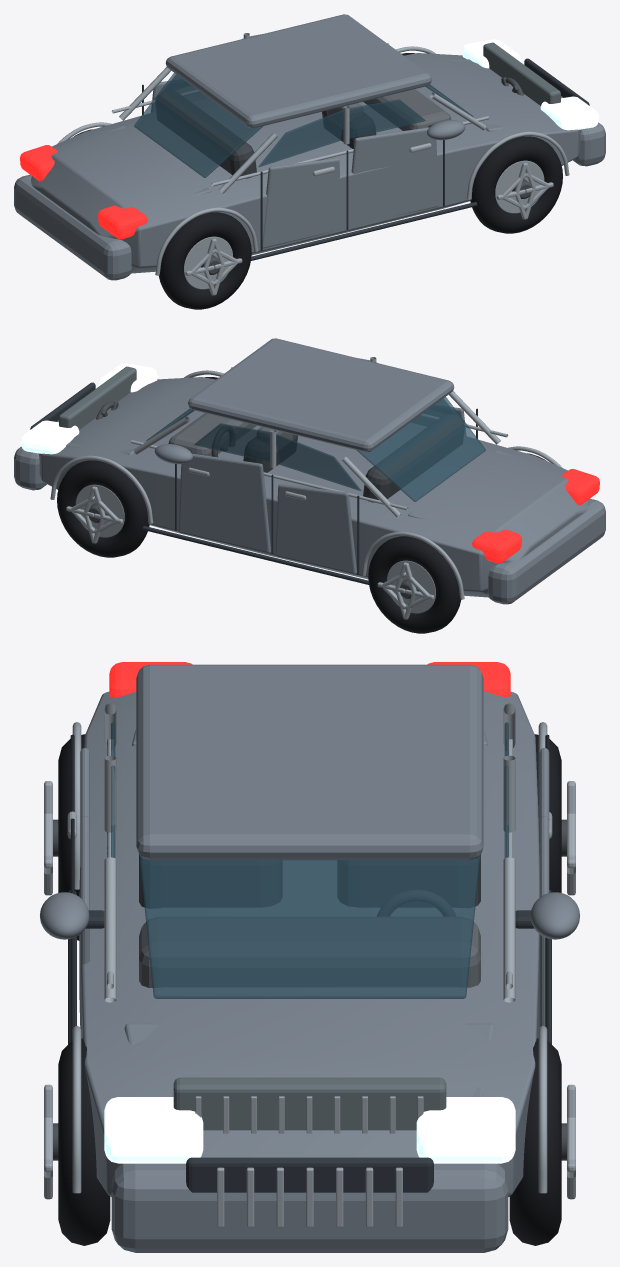
Rendered from sedan_v01.glb.
3 renders of one model, top to bottom at view 1: azimuth 30°, elevation 25°; view 2: azimuth 150°, elevation 25°; view 3: azimuth 270°, elevation 25°, orthographic. The views are drawn at different scales.
Visible parts, largest first — view 1: body.shell, body.roof_panel, glass.windshield.rear, body.door.rear.right, body.door.front.right, wheel.rear.right, wheel.front.right, body.bumper.rear, interior.seat.rear.back, interior.dashboard, glass.door.rear.right, cooling.radiator (+20 smaller); view 2: body.shell, body.roof_panel, body.door.front.left, glass.windshield.rear, body.door.rear.left, wheel.rear.left, wheel.front.left, body.bumper.rear, interior.seat.rear.back, glass.door.rear.left, cooling.radiator, glass.door.front.left (+19 smaller); view 3: body.shell, body.roof_panel, glass.windshield.front, body.bumper.front, interior.dashboard, cooling.radiator, detail.grille.front, interior.seat.front.right.back, wheel.front.left, wheel.front.right, interior.seat.front.left.back, light.headlamp.right (+18 smaller).
Part boxes in pixels (left/top/right/bottom): body.shell: left=31, top=53, right=581, bottom=273; body.roof_panel: left=165, top=14, right=431, bottom=128; glass.windshield.rear: left=134, top=73, right=263, bottom=177; body.door.rear.right: left=262, top=158, right=339, bottom=248; body.door.front.right: left=351, top=127, right=438, bottom=215; wheel.rear.right: left=159, top=212, right=251, bottom=309; wheel.front.right: left=470, top=136, right=562, bottom=233; body.bumper.rear: left=14, top=174, right=132, bottom=280; interior.seat.rear.back: left=155, top=90, right=256, bottom=178; interior.dashboard: left=363, top=89, right=451, bottom=130; glass.door.rear.right: left=258, top=110, right=343, bottom=167; cooling.radiator: left=483, top=42, right=560, bottom=105; body.shell: left=38, top=377, right=588, bottom=597; body.roof_panel: left=188, top=338, right=454, bottom=452; body.door.front.left: left=178, top=453, right=270, bottom=553; glass.windshield.rear: left=356, top=397, right=485, bottom=501; body.door.rear.left: left=275, top=484, right=356, bottom=574; wheel.rear.left: left=368, top=536, right=460, bottom=633; wheel.front.left: left=57, top=460, right=149, bottom=557; body.bumper.rear: left=487, top=498, right=605, bottom=604; interior.seat.rear.back: left=363, top=414, right=464, bottom=502; glass.door.rear.left: left=276, top=434, right=361, bottom=491; cooling.radiator: left=59, top=366, right=136, bottom=429; glass.door.front.left: left=194, top=423, right=270, bottom=462; body.shell: left=79, top=691, right=539, bottom=1196; body.roof_panel: left=136, top=664, right=483, bottom=860; glass.windshield.front: left=139, top=855, right=480, bottom=998; body.bumper.front: left=111, top=1163, right=508, bottom=1252; interior.dashboard: left=139, top=917, right=480, bottom=987; cooling.radiator: left=173, top=1077, right=446, bottom=1130; detail.grille.front: left=186, top=1157, right=433, bottom=1192; interior.seat.front.right.back: left=139, top=854, right=282, bottom=908; wheel.front.left: left=509, top=1038, right=561, bottom=1245; wheel.front.right: left=58, top=1038, right=110, bottom=1245; interior.seat.front.left.back: left=337, top=854, right=480, bottom=907; light.headlamp.right: left=104, top=1097, right=203, bottom=1163.
Bounding box in the file's own units: 4.68 × 1.47 × 2.18.
